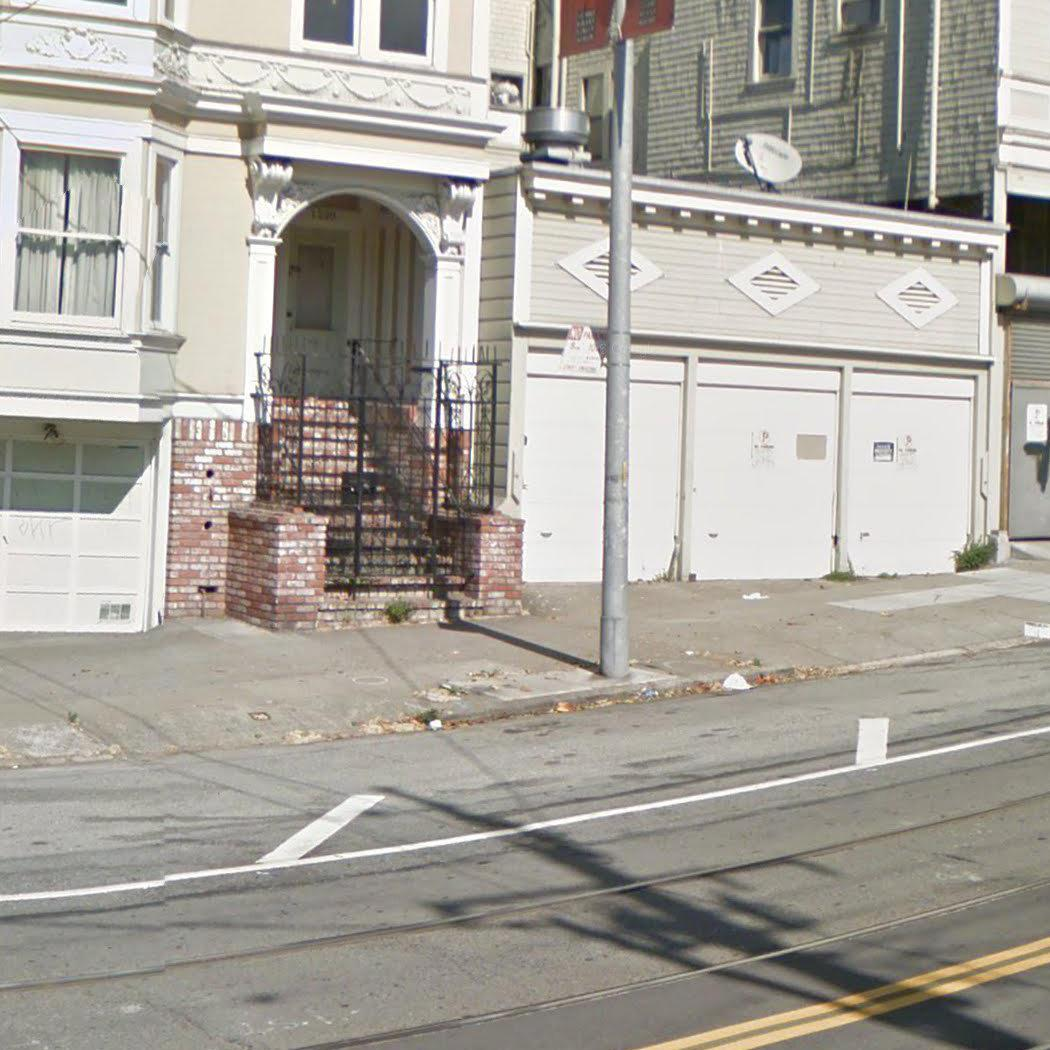No Parking: (559, 325, 606, 380)
